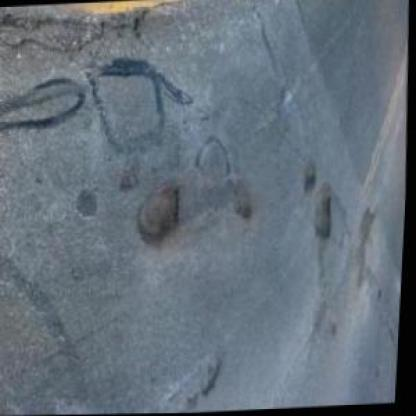pothole: (0, 4, 148, 56), (136, 180, 187, 244), (313, 185, 340, 242), (197, 356, 229, 396), (301, 164, 322, 194)
